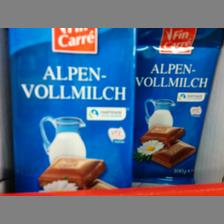Schokolade: (8, 27, 134, 189), (138, 28, 214, 184)
